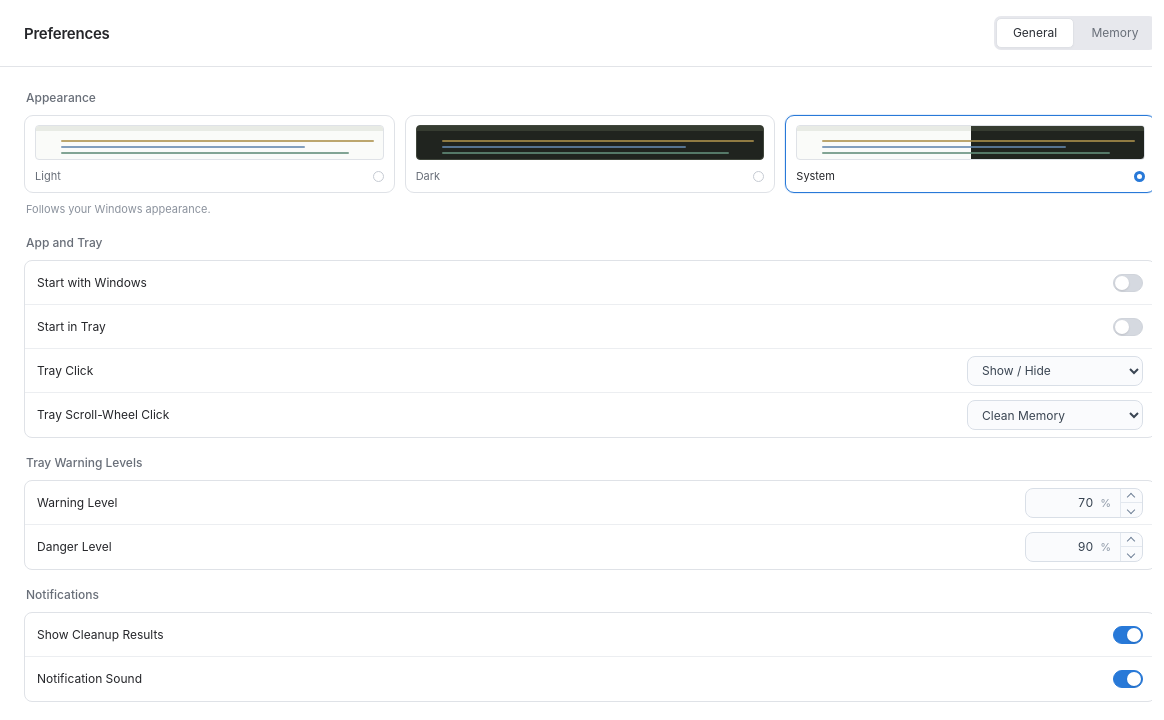
Test case: steps Danger Level in both directions without submitting
This screenshot has width=1164, height=720.
Click the button named "Increase danger level" at (1132, 540), box [1121, 533, 1142, 547]
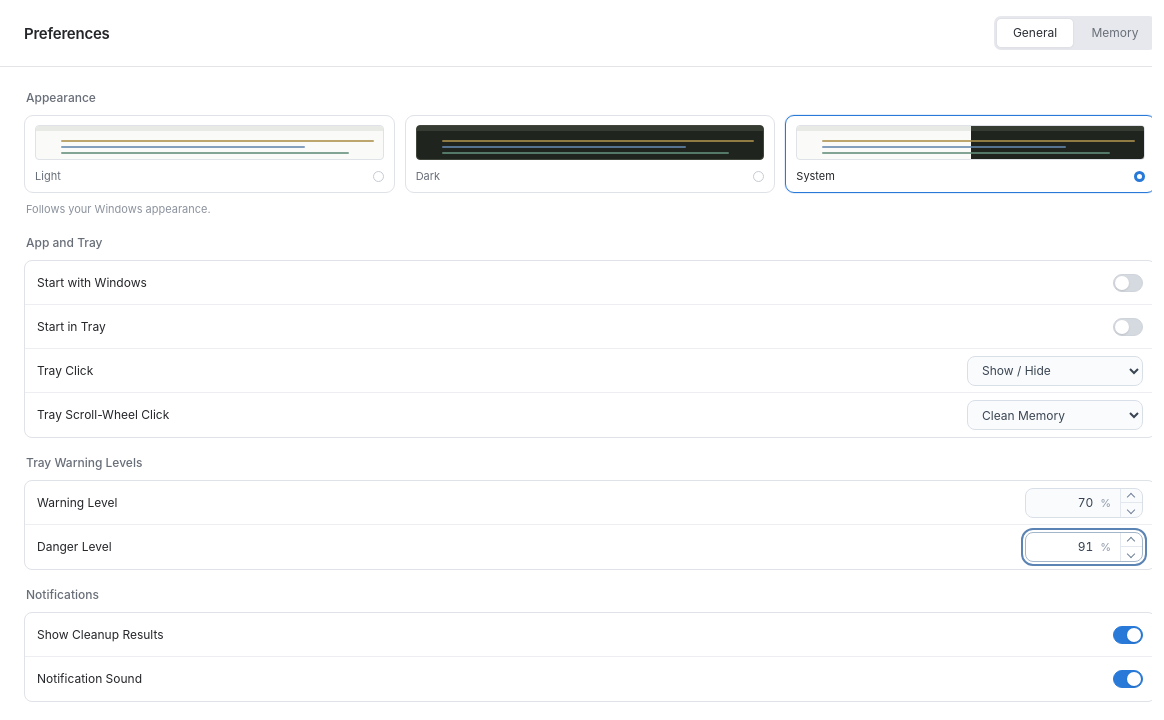
Check: the number field labelled "Danger Level" holds "91", box [1026, 533, 1096, 561]
Click the button named "Decrease danger level" at (1132, 554), box [1121, 547, 1142, 561]
(page scrolled)
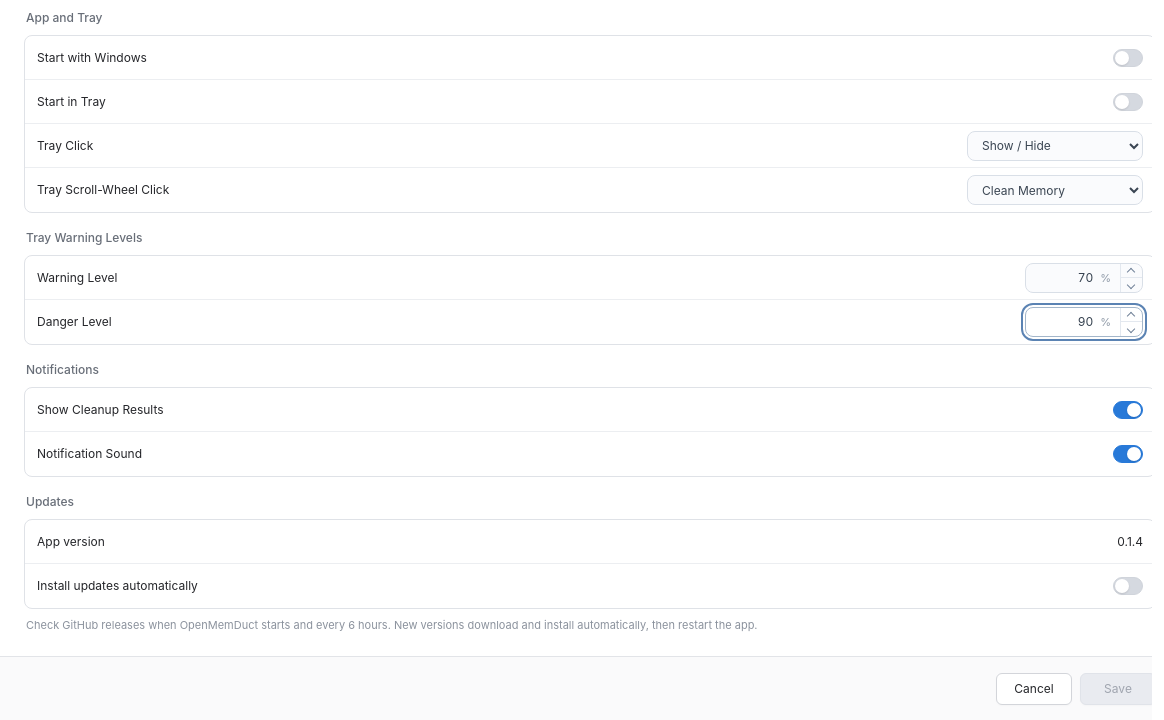
Check: the number field labelled "Danger Level" holds "90", box [1026, 308, 1096, 336]
